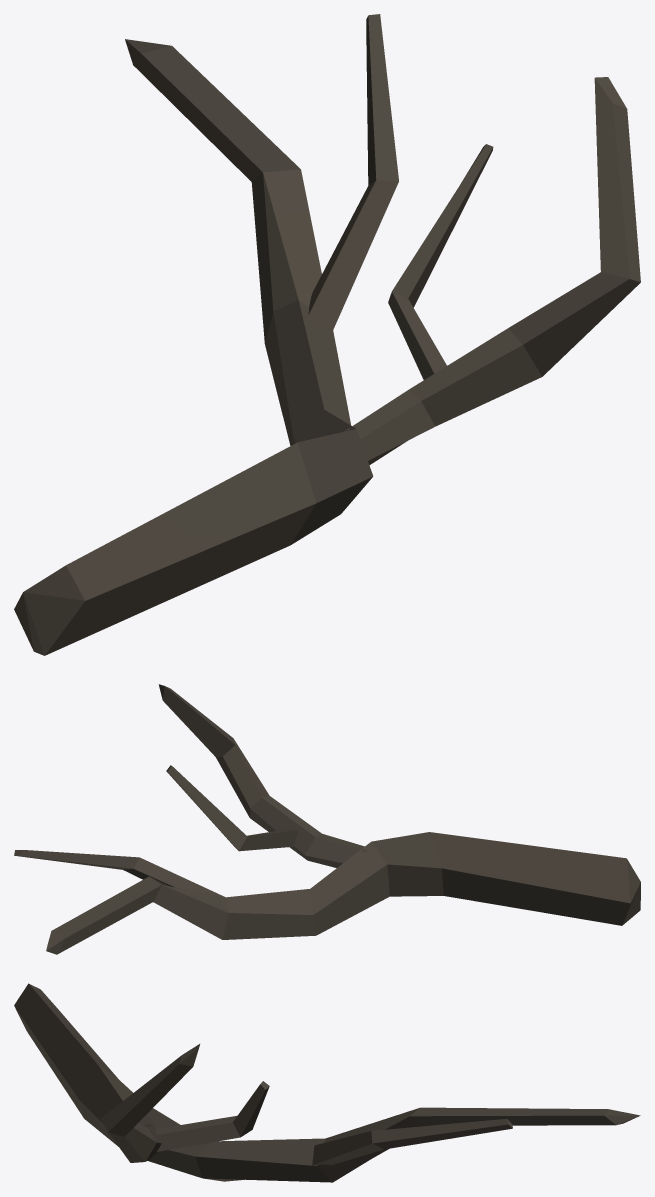
File: SM_Env_Branch_01.glb
3 views of the same model, one above another, from view 1: azimuth 30°, elevation 25°; view 2: azimuth 150°, elevation 25°; view 3: azimuth 270°, elevation 25° (orthographic). The views are drawn at different scales.
Parts seen in each view (by area): view 1: SM_Env_Branch_01; view 2: SM_Env_Branch_01; view 3: SM_Env_Branch_01.
Part boxes in pixels (x1,y1,x2,y2): SM_Env_Branch_01: [14, 14, 640, 655]; SM_Env_Branch_01: [14, 684, 640, 954]; SM_Env_Branch_01: [14, 983, 640, 1182].
Size of the model in its own units: 107 by 49.81 by 125.
1 material, 1 textured.
